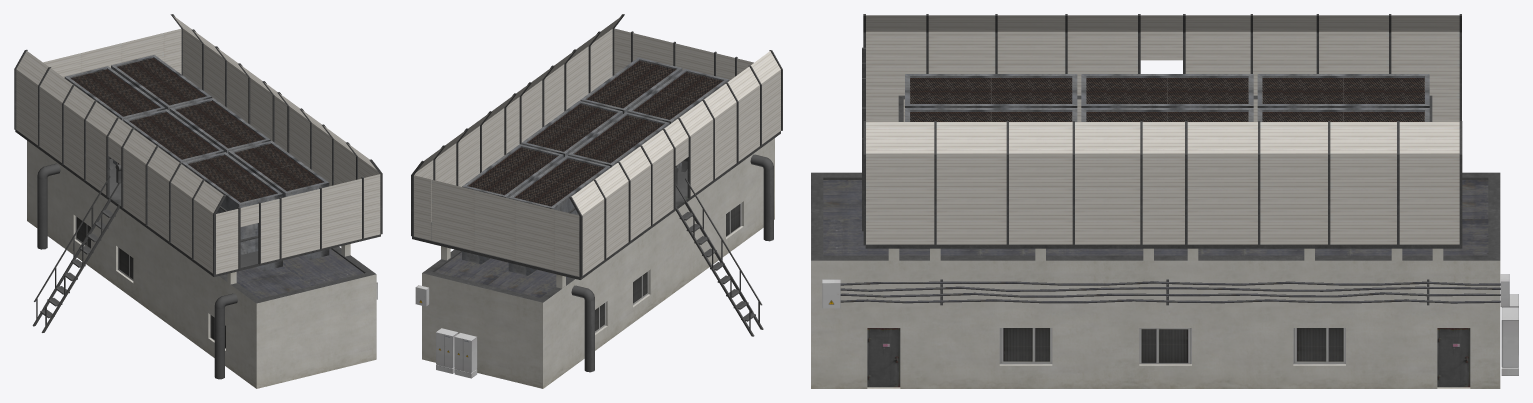
The model's file is plant-building16.glb.
3 views of the same model, side by side, from view 1: azimuth 30°, elevation 25°; view 2: azimuth 150°, elevation 25°; view 3: azimuth 270°, elevation 25° (orthographic). The views are drawn at different scales.
Visible parts, largest first — view 1: Object002; view 2: Object002; view 3: Object002.
Part boxes in pixels (box(x1,y1,x2,y2)): Object002: box(14, 14, 382, 388); Object002: box(411, 14, 782, 388); Object002: box(811, 14, 1518, 388).
Bounding box in the file's own units: 14.01 × 10.13 × 23.33.
1 material, 1 textured.
